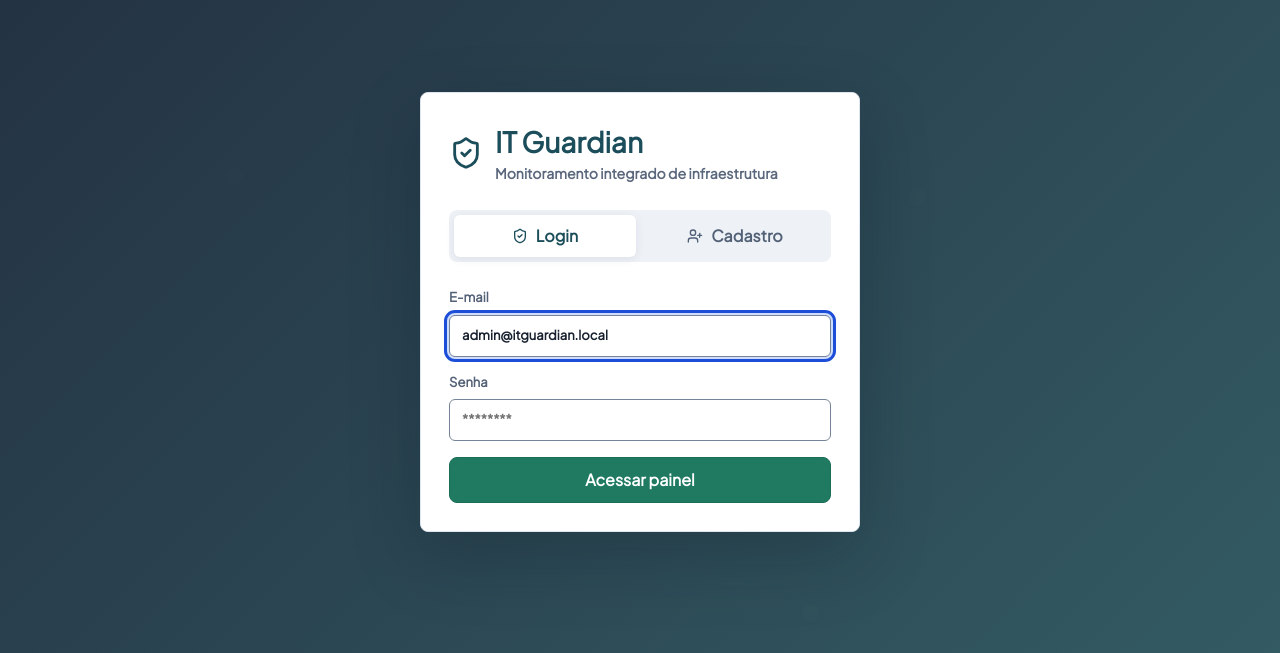
Scenario: cadastro › mostra todas as regras quando o servidor recusa a senha
Click the button "Cadastro": point(735, 236) x1=644 y1=215 x2=826 y2=257
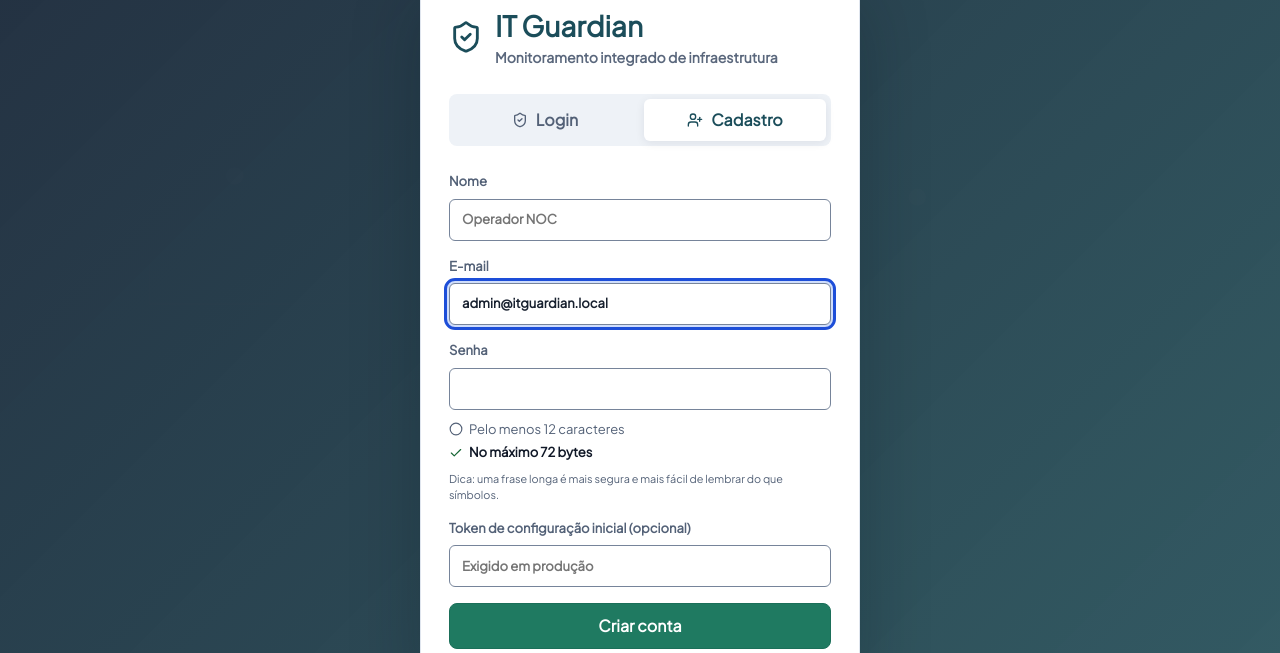
In the password field labelled "Senha": point(640, 388) x1=449 y1=368 x2=831 y2=410, type "cavalo azul come batata"
(page scrolled)
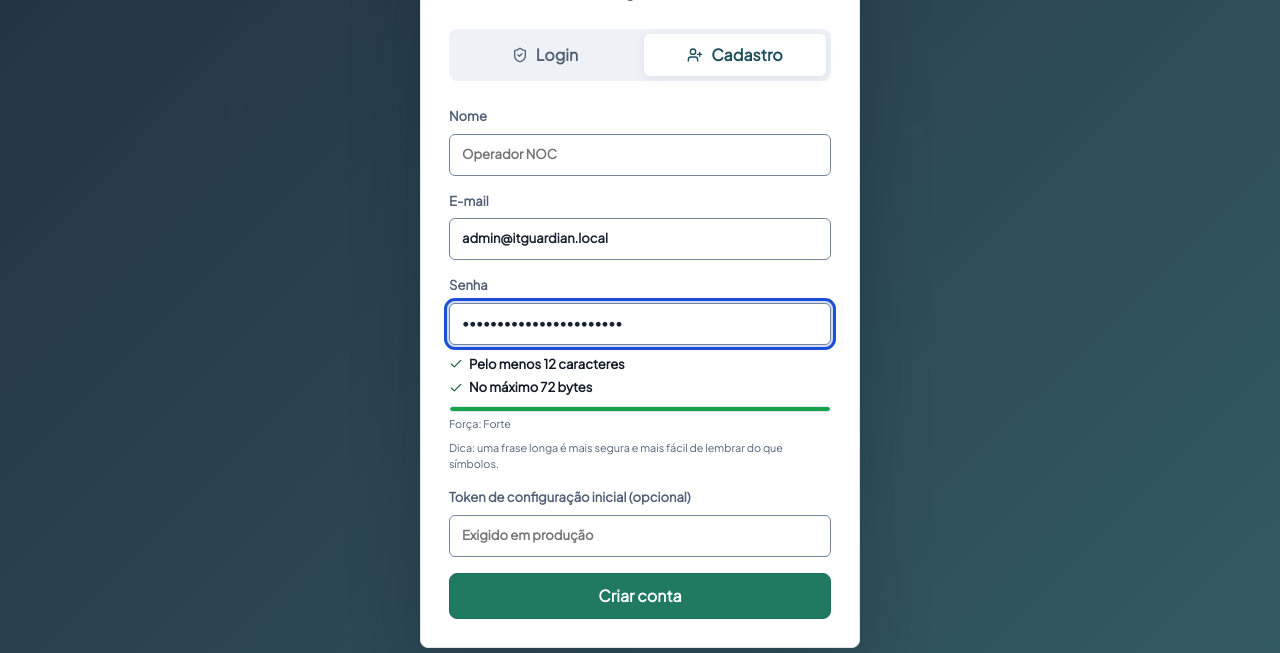
Click the button "Criar conta": point(640, 596) x1=449 y1=573 x2=831 y2=619
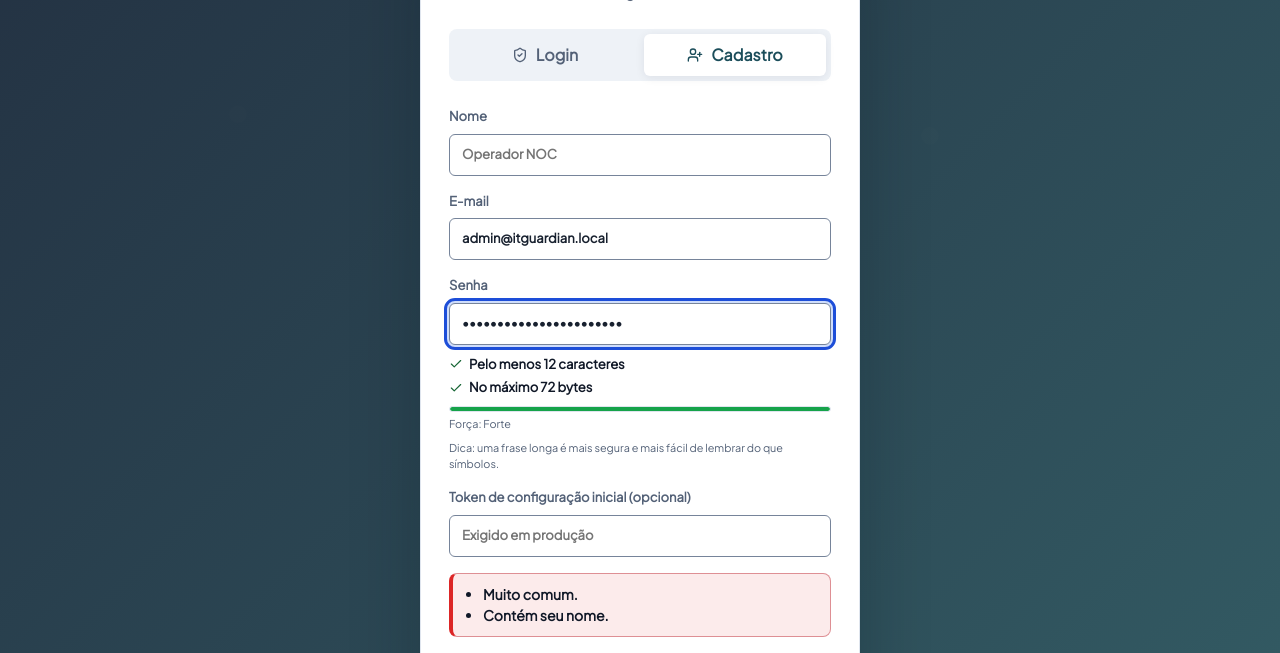
Expected: the message shows "Muito comum.", x1=483 y1=585 x2=578 y2=603
Expected: the message shows "Contém seu nome.", x1=483 y1=606 x2=608 y2=624
